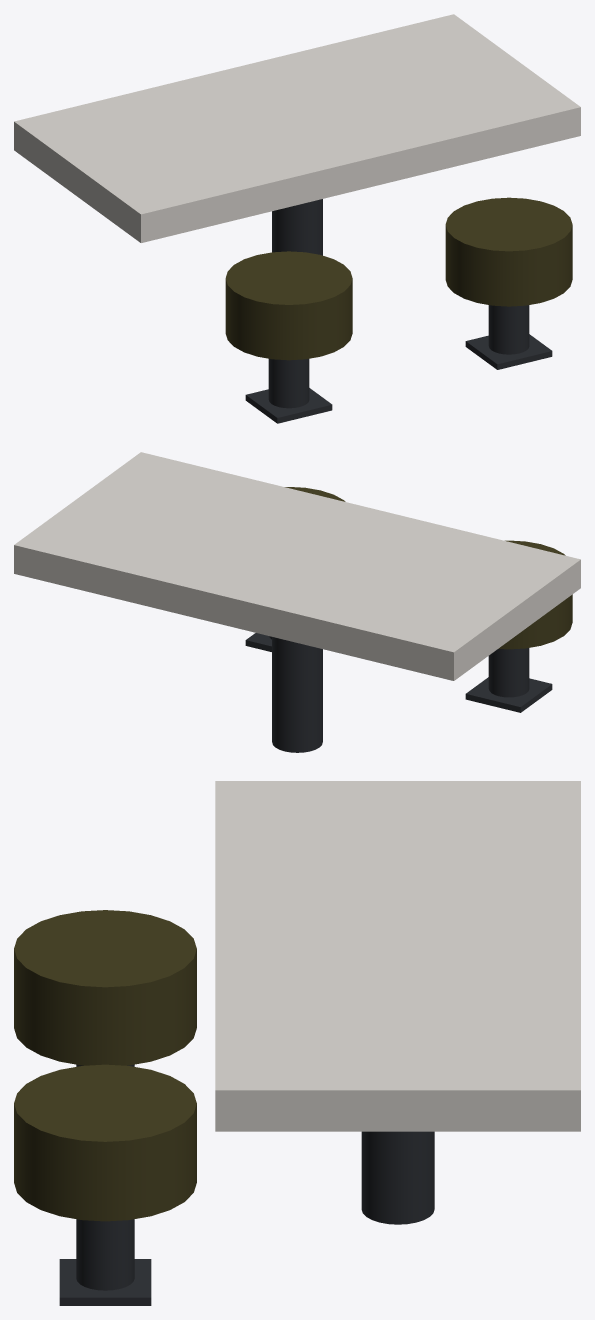
The model's file is Long Table.fbx.
The picture shows the model from 3 angles, top to bottom: view 1: azimuth 30°, elevation 25°; view 2: azimuth 150°, elevation 25°; view 3: azimuth 270°, elevation 25°; orthographic projection. The views are drawn at different scales.
Visible parts, largest first — view 1: Long Table.001; view 2: Long Table.001; view 3: Long Table.001.
Boxes of the visible parts, left/top/right/bottom form: Long Table.001: left=14, top=14, right=580, bottom=423; Long Table.001: left=14, top=452, right=580, bottom=752; Long Table.001: left=14, top=781, right=580, bottom=1305.
Size of the model in its own units: 155 by 200 by 82.5.
